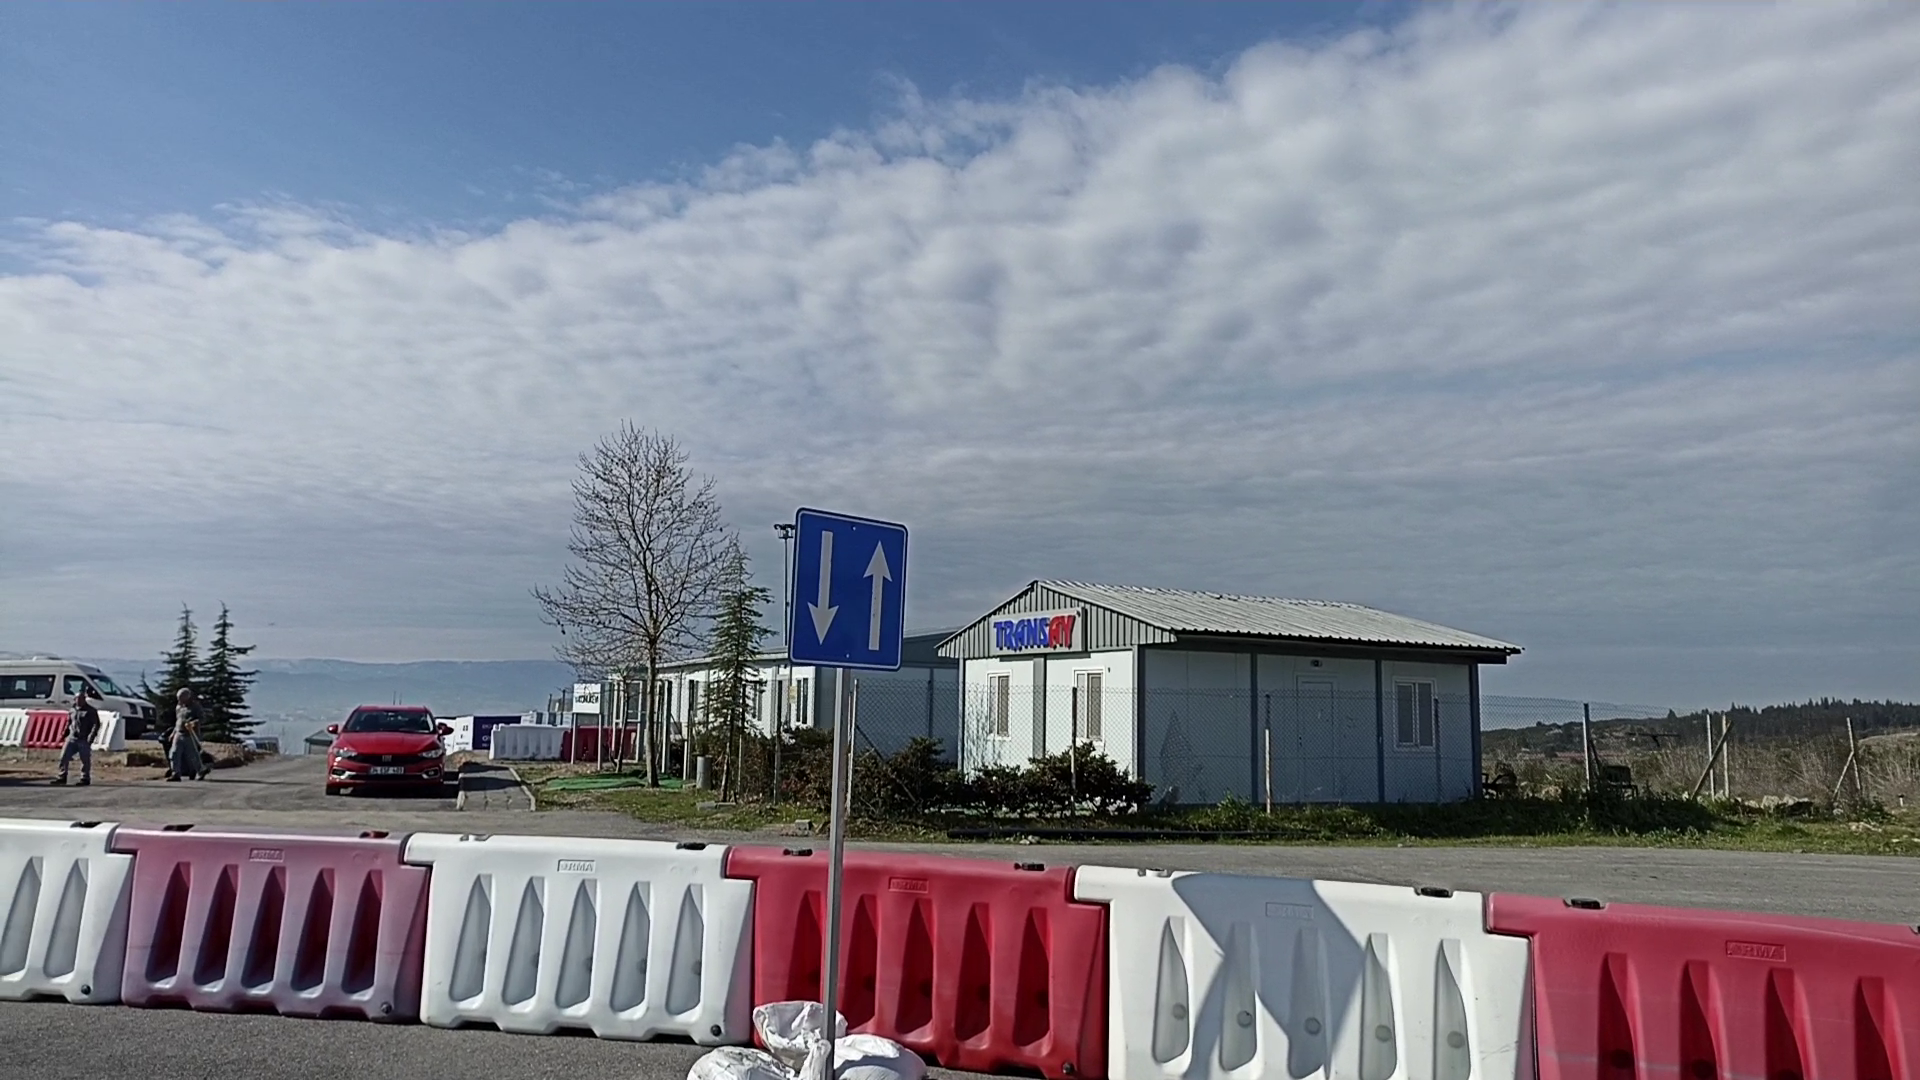oneway: (787, 505, 911, 674)
